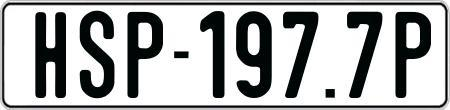1: (200, 8, 224, 95)
7: (344, 10, 382, 102), (280, 9, 316, 96)
9: (235, 9, 274, 102)
H: (34, 12, 69, 100)
P: (127, 12, 166, 100), (392, 12, 428, 104)
S: (79, 9, 113, 102)
